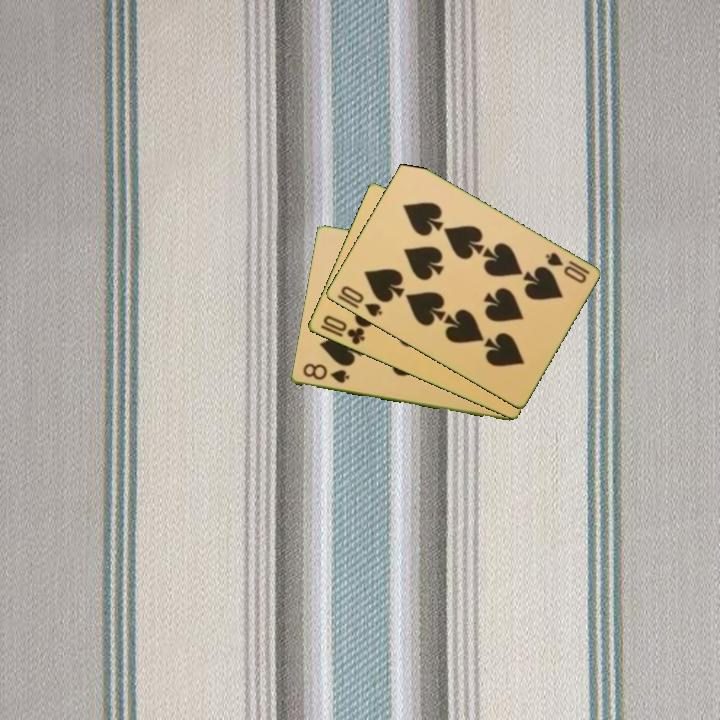10c: (319, 312, 367, 348)
10s: (541, 249, 592, 287), (337, 282, 385, 320)
8s: (299, 360, 352, 386)
